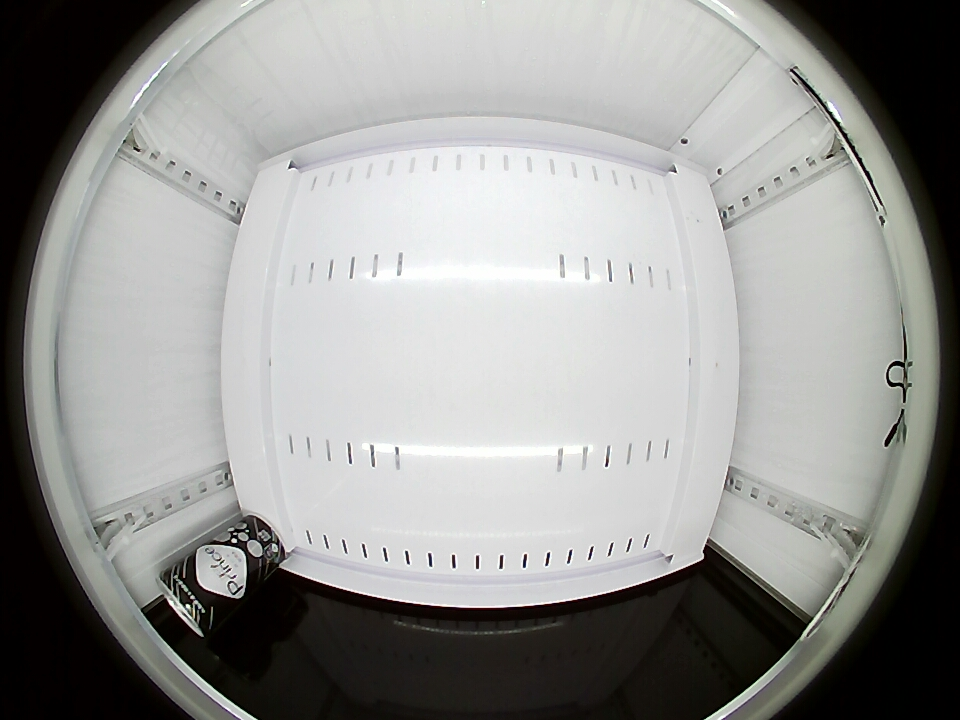qingdaowangzi-1: (157, 562, 217, 637)
